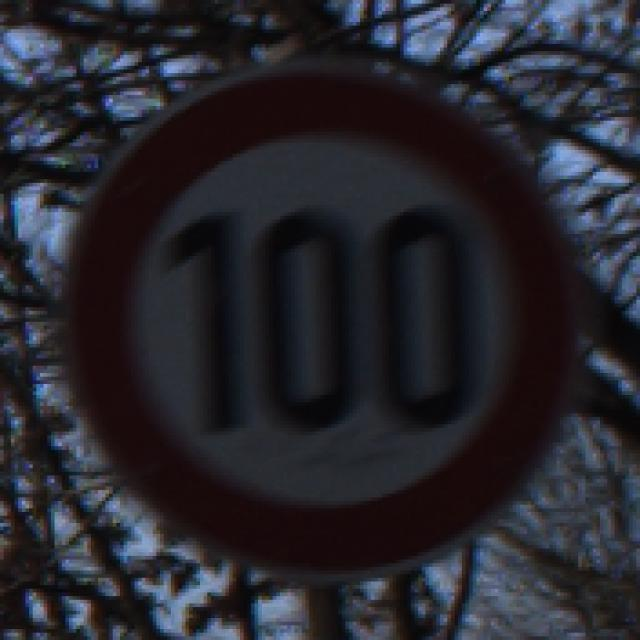speed limit 100: (48, 60, 585, 579)
